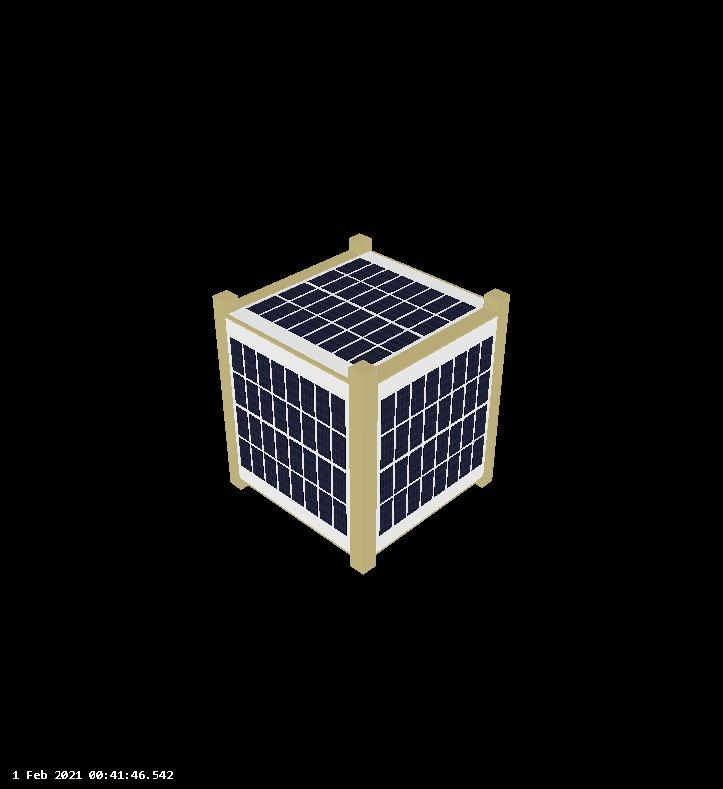body: (210, 230, 513, 579)
solar: (243, 255, 479, 366), (227, 333, 350, 538), (376, 334, 496, 540)
